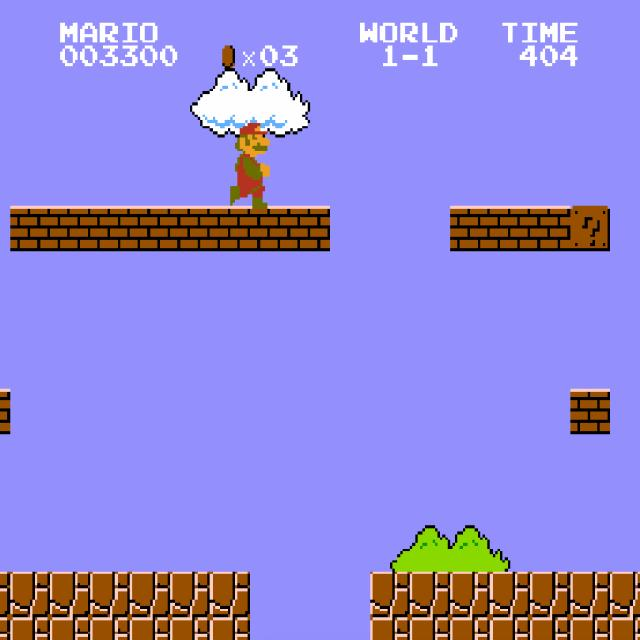big_mario: (228, 114, 270, 208)
brick_block: (10, 206, 50, 251), (50, 206, 90, 251), (90, 206, 130, 251), (130, 206, 170, 251), (170, 206, 210, 251), (210, 206, 250, 251), (250, 206, 290, 251), (290, 206, 330, 251), (450, 206, 490, 251), (490, 206, 530, 251), (530, 206, 570, 251), (570, 389, 610, 434), (0, 388, 10, 434)
mystery_block: (570, 206, 610, 251)
undestructible_block: (10, 572, 50, 617), (50, 572, 90, 617), (90, 572, 130, 617), (130, 572, 170, 617), (170, 572, 210, 617), (210, 572, 250, 617), (370, 572, 410, 617), (410, 572, 450, 617), (450, 572, 490, 617), (490, 572, 530, 617), (530, 572, 570, 617), (570, 572, 610, 617), (610, 572, 640, 617), (10, 617, 50, 640), (50, 617, 90, 640), (90, 617, 130, 640), (130, 617, 170, 640), (170, 617, 210, 640), (210, 617, 250, 640), (370, 617, 410, 640), (410, 617, 450, 640), (450, 617, 490, 640), (490, 617, 530, 640), (530, 617, 570, 640), (570, 617, 610, 640), (610, 617, 640, 640), (0, 571, 10, 617), (0, 617, 10, 639)
